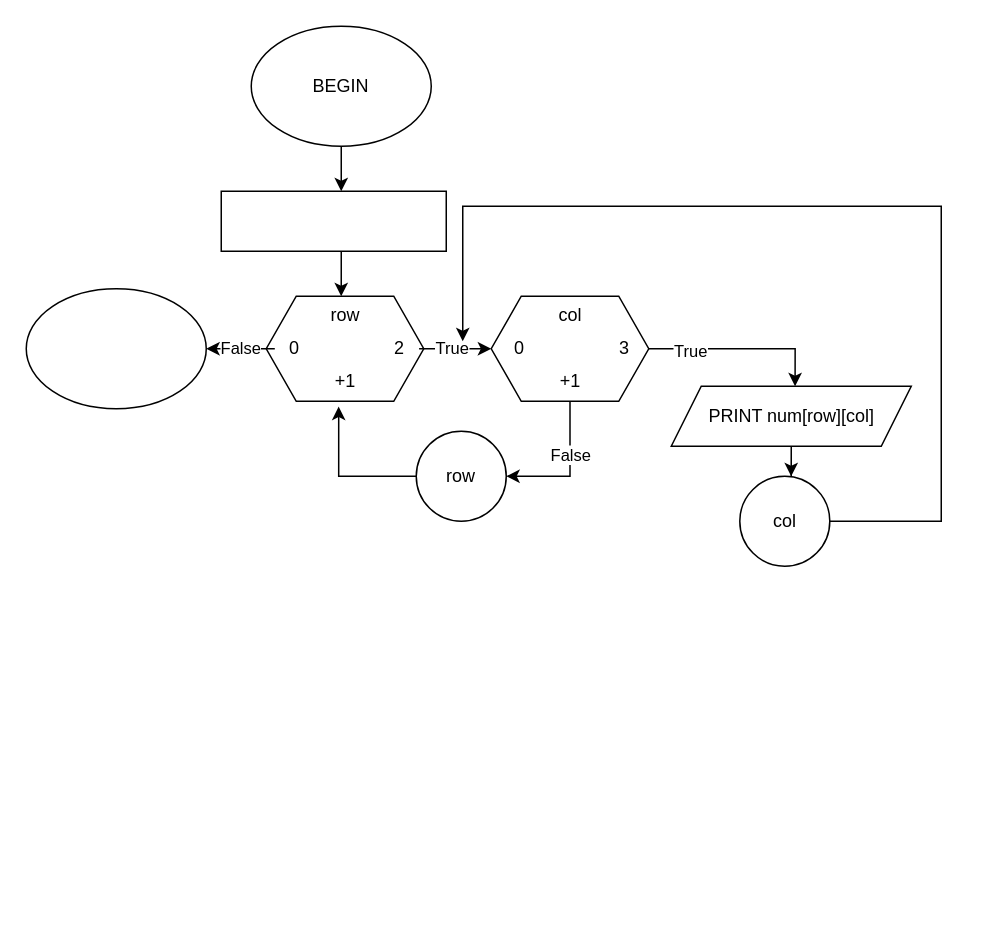
Some shapes in this 983 by 951 pixel diagram are drawn without their labels. Each missing label, with the centre of its shape:
"END" goes at point (115, 348).
"num = ([8,55,46],[7,2,14])" goes at point (333, 220).
